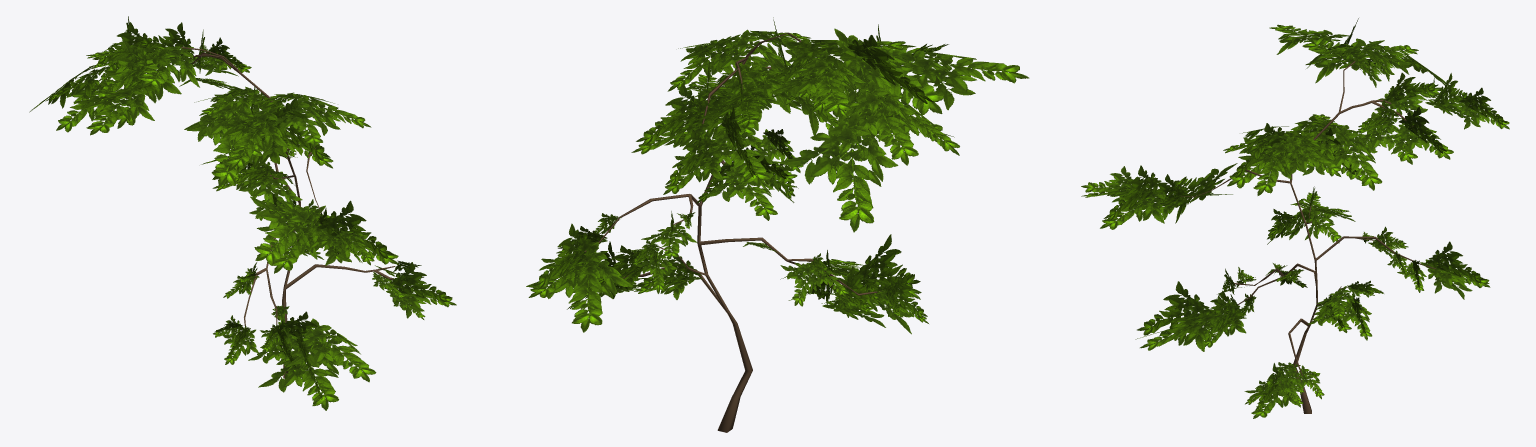
The model's file is m_tree_small.fbx.
3 renders of one model, left to right at view 1: azimuth 30°, elevation 25°; view 2: azimuth 150°, elevation 25°; view 3: azimuth 270°, elevation 25°, orthographic. The views are drawn at different scales.
Parts seen in each view (by area): view 1: pCube2; view 2: pCube2; view 3: pCube2.
Boxes of the visible parts, x1,y1,x2,y2 form: pCube2: (29, 16, 456, 410); pCube2: (526, 17, 1029, 432); pCube2: (1081, 18, 1509, 418).
Bounding box in the file's own units: 75.67 × 63.91 × 78.7.
